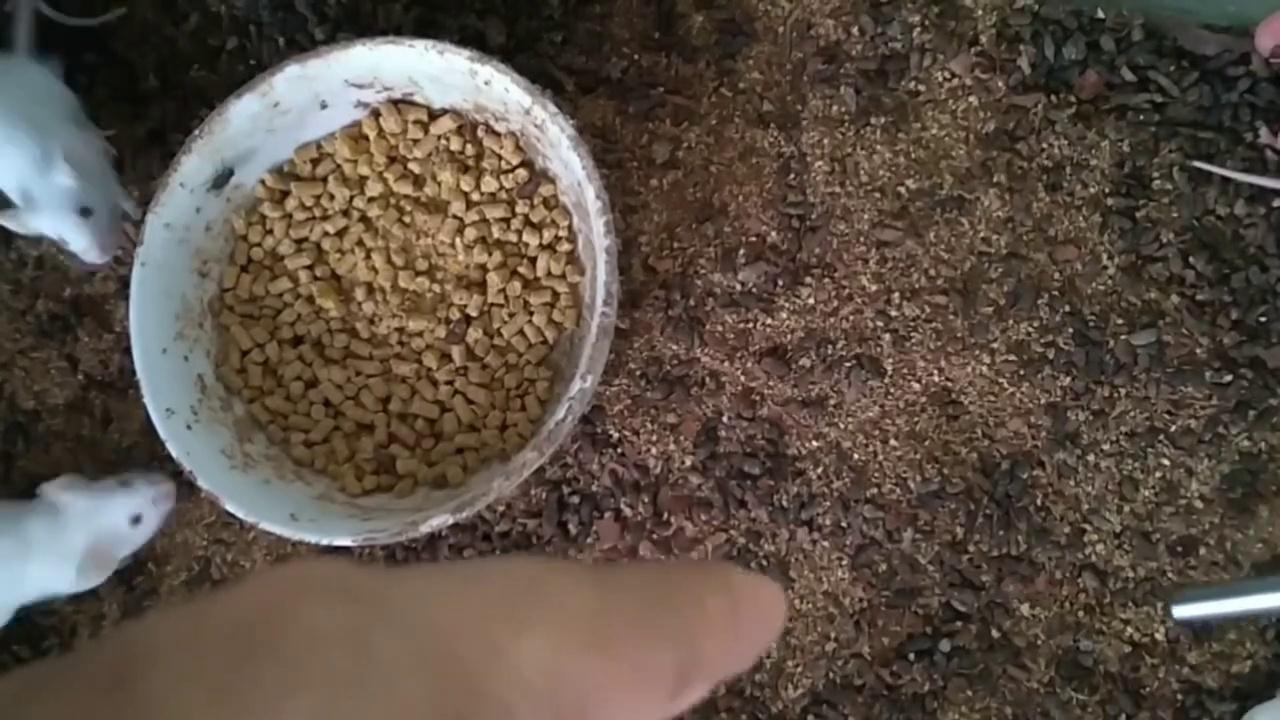rat: (0, 0, 146, 263), (0, 468, 180, 626)
